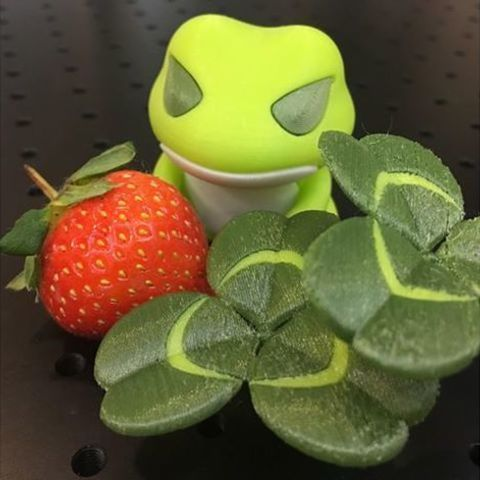oxalis: (110, 148, 480, 447)
